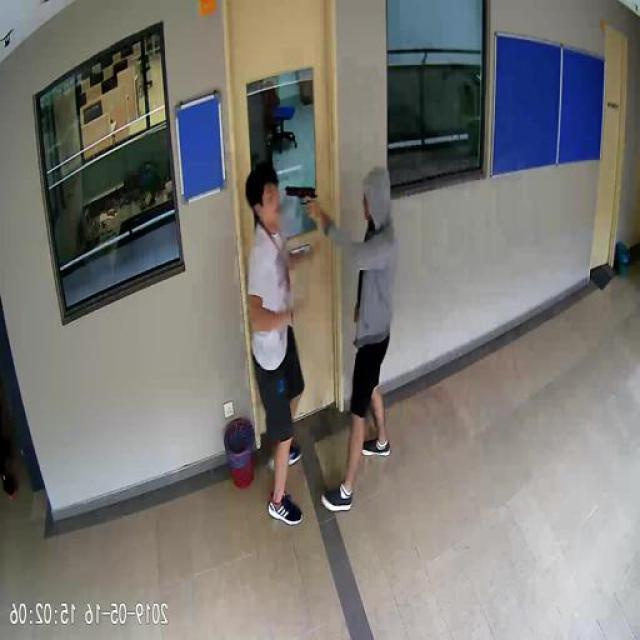Gun: (288, 182, 318, 218)
